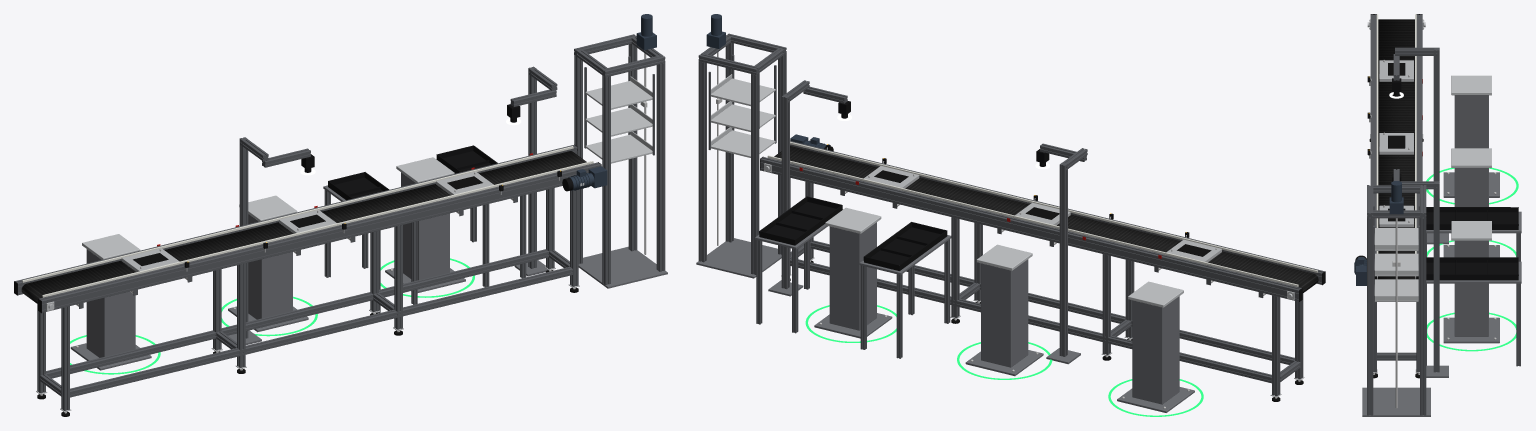
The model's file is ev_line_conveyor.glb.
3 views of the same model, side by side, from view 1: azimuth 30°, elevation 25°; view 2: azimuth 150°, elevation 25°; view 3: azimuth 270°, elevation 25° (orthographic). The views are drawn at different scales.
Parts seen in each view (by area): view 1: Conveyor_Frame, Storage, Conveyor_Belt, Robot_Pedestal_ST1, Robot_Pedestal_ST2, Storage_Rack, Robot_Pedestal_ST3, Conveyor_Guide, Tray_Fail, Tray_Pass, CameraStand_ST3, CameraStand_ST2 (+4 smaller); view 2: Conveyor_Frame, Storage, Robot_Pedestal_ST2, Robot_Pedestal_ST1, Conveyor_Belt, Robot_Pedestal_ST3, Tray_Fail, Tray_Pass, Storage_Rack, Conveyor_Guide, CameraStand_ST2, CameraStand_ST3 (+3 smaller); view 3: Storage, Conveyor_Belt, Robot_Pedestal_ST3, Conveyor_Frame, Robot_Pedestal_ST1, Storage_Rack, Tray_Pass, Robot_Pedestal_ST2, Tray_Fail, CameraStand_ST3, CameraStand_ST2, Conveyor_Guide (+6 smaller).
Boxes of the visible parts, bbox=[...] form: Conveyor_Frame: bbox=[15, 145, 601, 410]; Storage: bbox=[574, 14, 667, 288]; Conveyor_Belt: bbox=[21, 151, 586, 303]; Robot_Pedestal_ST1: bbox=[70, 234, 151, 370]; Robot_Pedestal_ST2: bbox=[228, 195, 308, 332]; Storage_Rack: bbox=[584, 56, 654, 163]; Robot_Pedestal_ST3: bbox=[385, 157, 465, 292]; Conveyor_Guide: bbox=[22, 146, 593, 297]; Tray_Fail: bbox=[323, 172, 417, 313]; Tray_Pass: bbox=[436, 145, 526, 287]; CameraStand_ST3: bbox=[510, 66, 557, 276]; CameraStand_ST2: bbox=[228, 137, 310, 345]; Conveyor_Frame: bbox=[760, 141, 1324, 396]; Storage: bbox=[696, 14, 786, 278]; Robot_Pedestal_ST2: bbox=[965, 244, 1043, 376]; Robot_Pedestal_ST1: bbox=[1117, 281, 1194, 412]; Conveyor_Belt: bbox=[774, 146, 1318, 293]; Robot_Pedestal_ST3: bbox=[814, 207, 892, 338]; Tray_Fail: bbox=[859, 222, 951, 358]; Tray_Pass: bbox=[755, 196, 842, 333]; Storage_Rack: bbox=[708, 54, 776, 157]; Conveyor_Guide: bbox=[767, 141, 1317, 286]; CameraStand_ST2: bbox=[1040, 143, 1087, 364]; CameraStand_ST3: bbox=[768, 80, 847, 296]; Storage: bbox=[1362, 181, 1430, 416]; Conveyor_Belt: bbox=[1378, 19, 1415, 279]; Robot_Pedestal_ST3: bbox=[1443, 221, 1499, 343]; Conveyor_Frame: bbox=[1370, 14, 1422, 372]; Robot_Pedestal_ST1: bbox=[1443, 75, 1499, 197]; Storage_Rack: bbox=[1373, 205, 1419, 302]; Tray_Pass: bbox=[1426, 257, 1521, 366]; Robot_Pedestal_ST2: bbox=[1443, 148, 1499, 257]; Tray_Fail: bbox=[1426, 207, 1521, 261]; CameraStand_ST3: bbox=[1393, 169, 1448, 377]; CameraStand_ST2: bbox=[1393, 47, 1448, 244]; Conveyor_Guide: bbox=[1376, 14, 1416, 253].
Size of the model in its own units: 4.38 by 1.64 by 1.07.
Materials: 17 (1 with a texture image).
